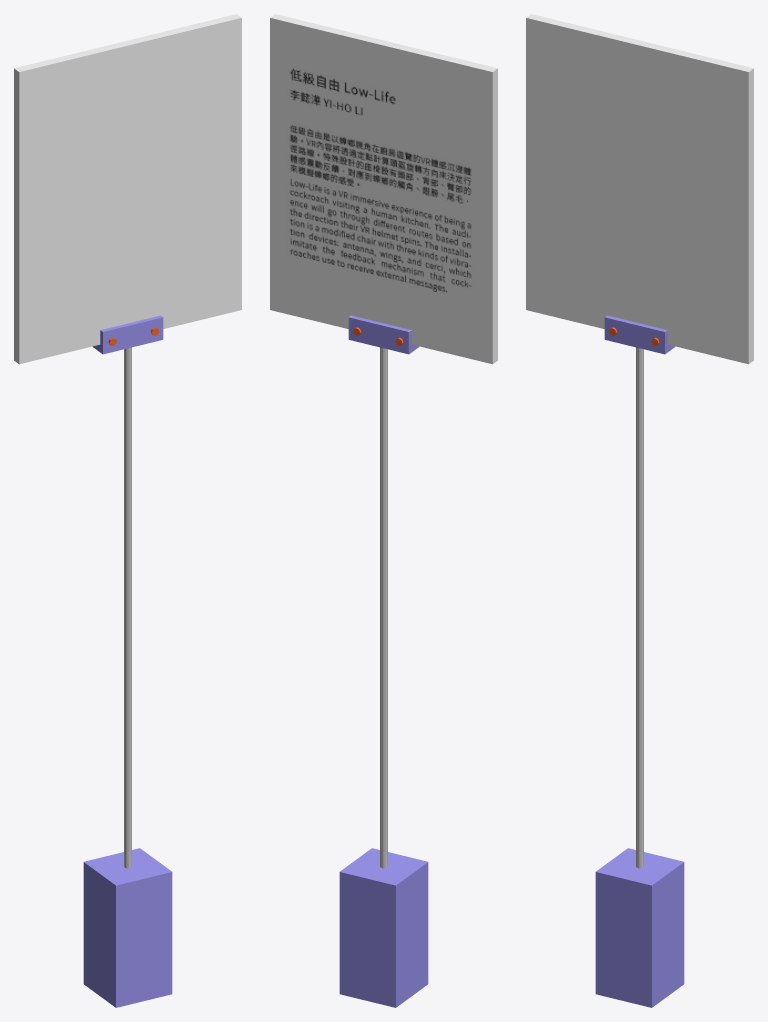
File: work_sign04.fbx
3 views of the same model, side by side, from view 1: azimuth 30°, elevation 25°; view 2: azimuth 150°, elevation 25°; view 3: azimuth 330°, elevation 25° (orthographic).
Visible parts, largest first — view 1: work_detail_04, work_sign; view 2: work_detail_04, work_sign; view 3: work_detail_04, work_sign.
Boxes of the visible parts, <box> form: work_detail_04: <box>14,14,241,364</box>; work_sign: <box>83,315,172,1007</box>; work_detail_04: <box>270,14,497,364</box>; work_sign: <box>339,315,428,1007</box>; work_detail_04: <box>526,14,753,364</box>; work_sign: <box>595,315,684,1007</box>.
Bounding box in the file's own units: 42.19 × 171 × 10.67.
1 material, 1 textured.
